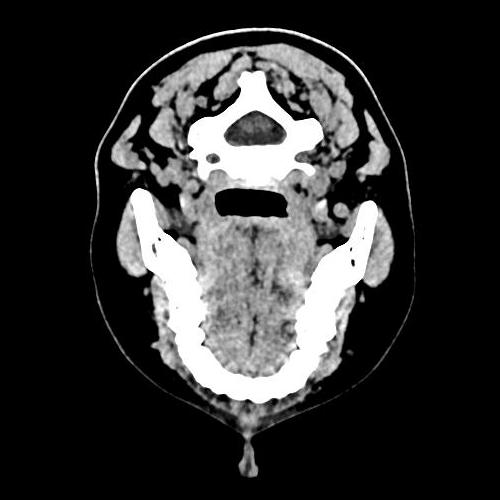Normal_Brain: (69, 18, 426, 500)
